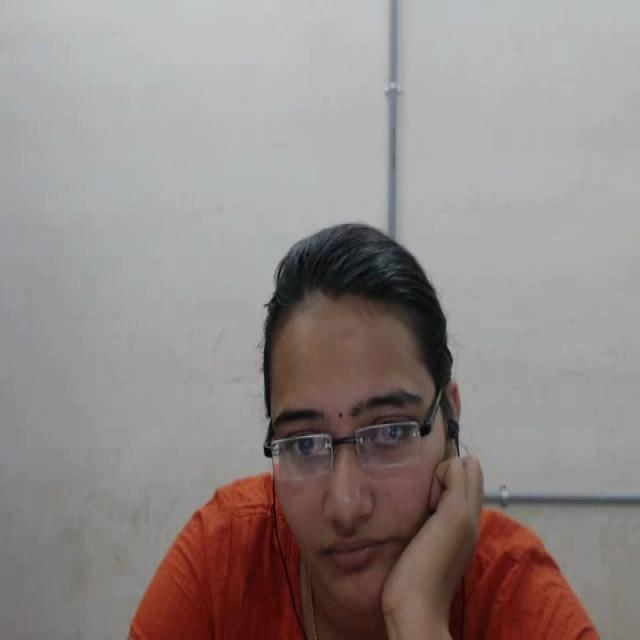Bored: (229, 200, 510, 610)
